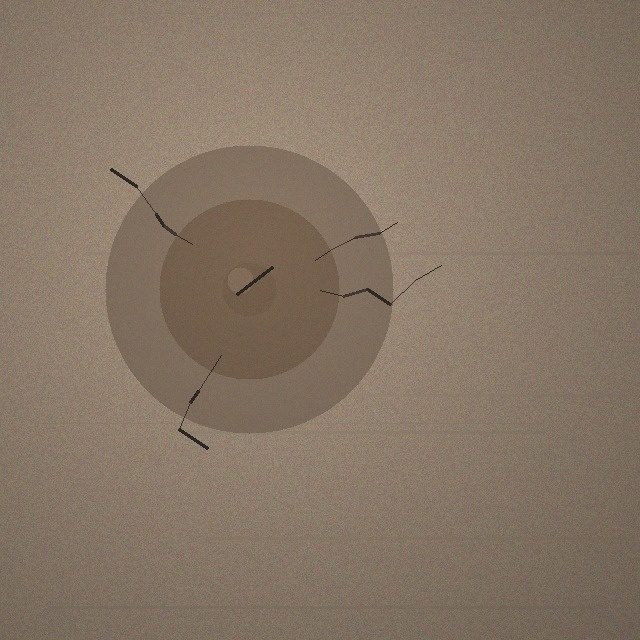crack: (105, 145, 393, 433)
